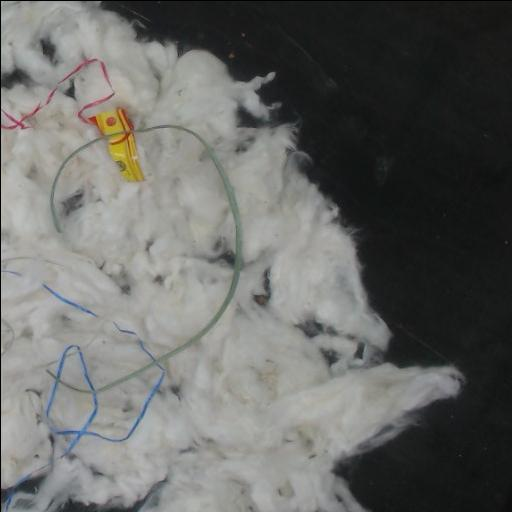conveyor belt: (104, 1, 512, 512)
cotton: (1, 1, 462, 512)
packet: (89, 108, 143, 181)
thread: (45, 124, 242, 457), (1, 58, 114, 129), (49, 131, 120, 232), (43, 285, 96, 316)
